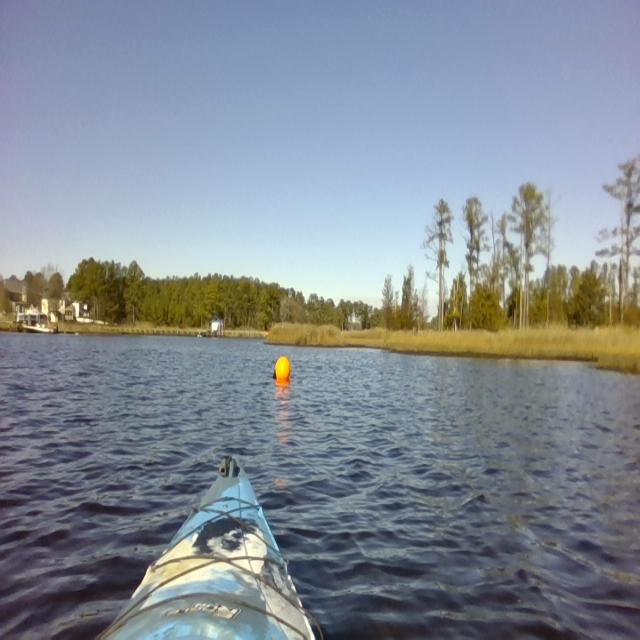Buoy: (266, 349, 299, 388)
